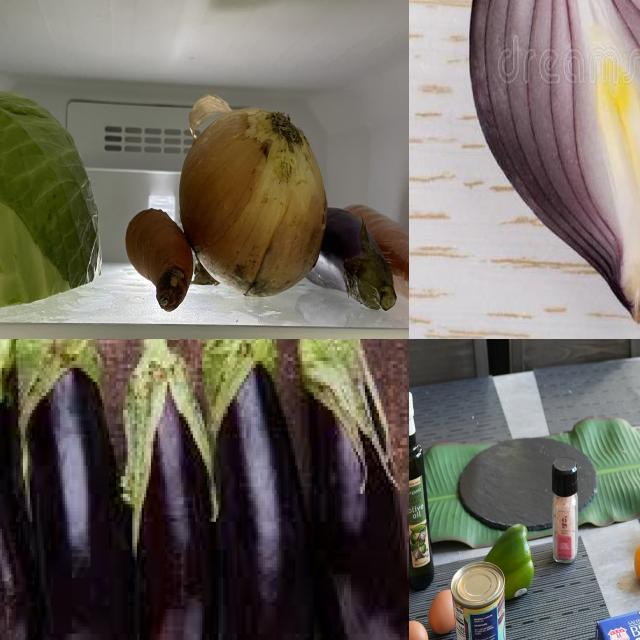bell_pepper: (479, 524, 537, 602)
cabbage: (1, 89, 110, 320)
carrot: (124, 211, 206, 316), (350, 201, 410, 308)
egg: (429, 590, 459, 636), (410, 617, 430, 640)
eggplant: (19, 340, 135, 640), (296, 340, 410, 640), (205, 340, 305, 640), (126, 340, 212, 640), (1, 340, 40, 640), (319, 199, 403, 308)
onion: (465, 1, 640, 333), (180, 111, 330, 296)
